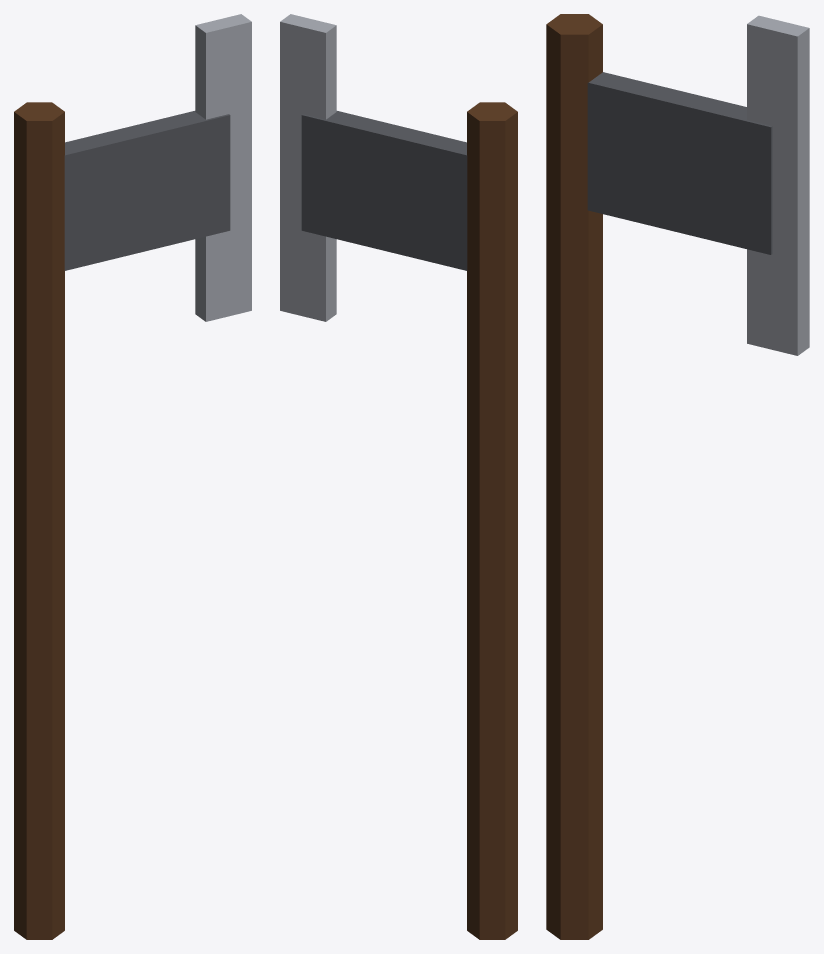
File: wpn_axe.glb
3 renders of one model, left to right at view 1: azimuth 30°, elevation 25°; view 2: azimuth 150°, elevation 25°; view 3: azimuth 330°, elevation 25°, orthographic. The views are drawn at different scales.
Visible parts, largest first — view 1: wpn_axe; view 2: wpn_axe; view 3: wpn_axe.
Boxes of the visible parts, left/top/right/bottom form: wpn_axe: left=14, top=14, right=251, bottom=939; wpn_axe: left=280, top=14, right=517, bottom=939; wpn_axe: left=546, top=14, right=809, bottom=939.
Bounding box in the file's own units: 0.2458 × 0.895 × 0.048.
